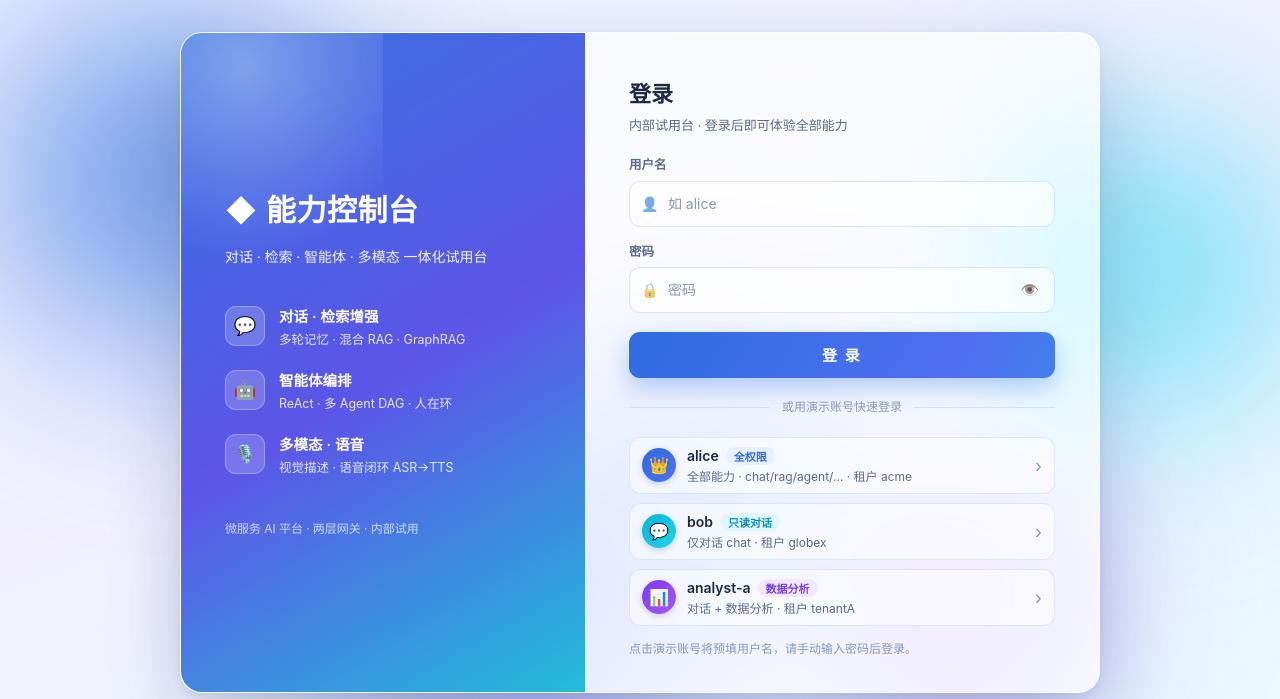
Test case: LoginView › 登录失败：展示后端返回的人话消息
Type "alice" into the field with id "login-username".
click(842, 204); type("alice")  # box [629,181,1055,227]
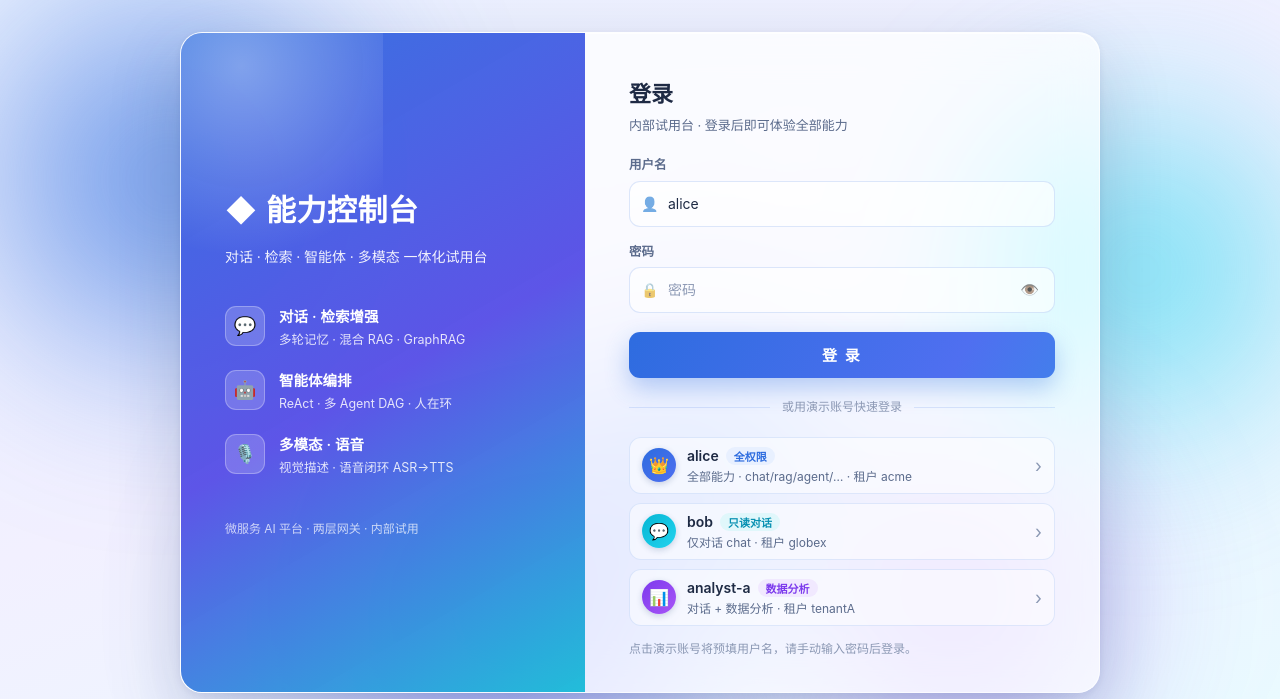
Type "wrong" into the password field with id "login-password".
click(842, 290); type("wrong")  # box [629,267,1055,313]
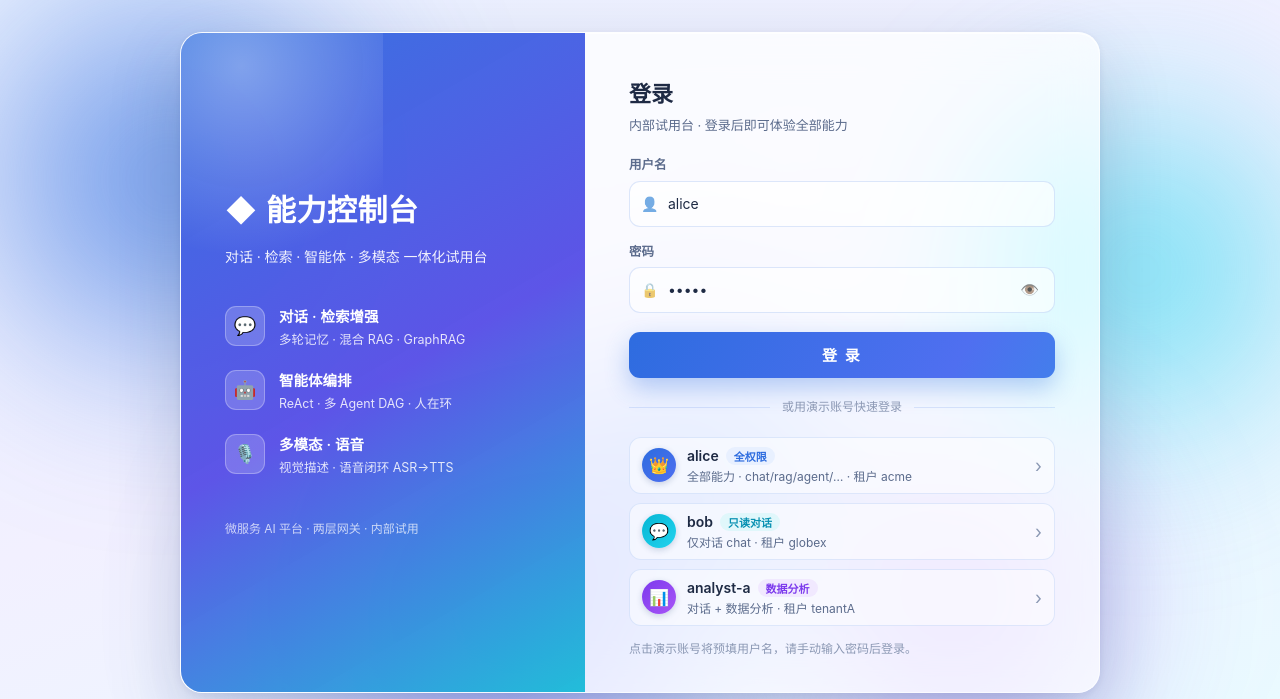
Submit the form, box [629,155,1055,378]
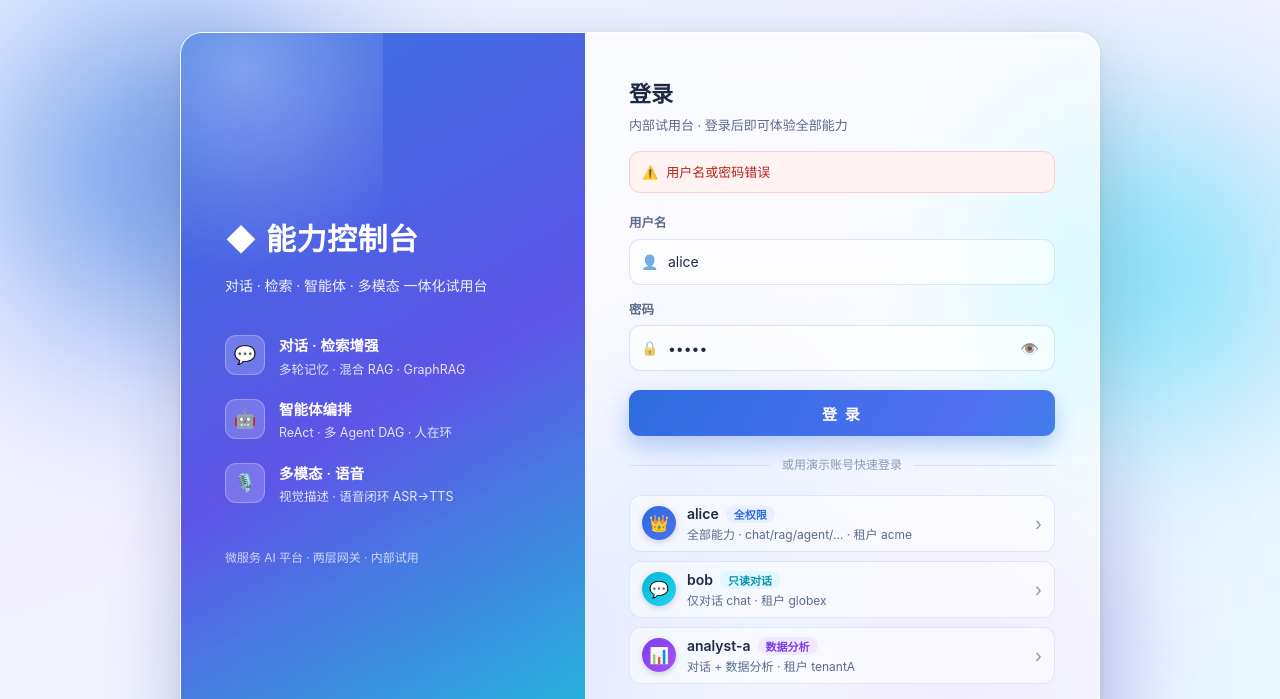
Expected: the text "用户名或密码错误" is shown, [666,162,770,182]
